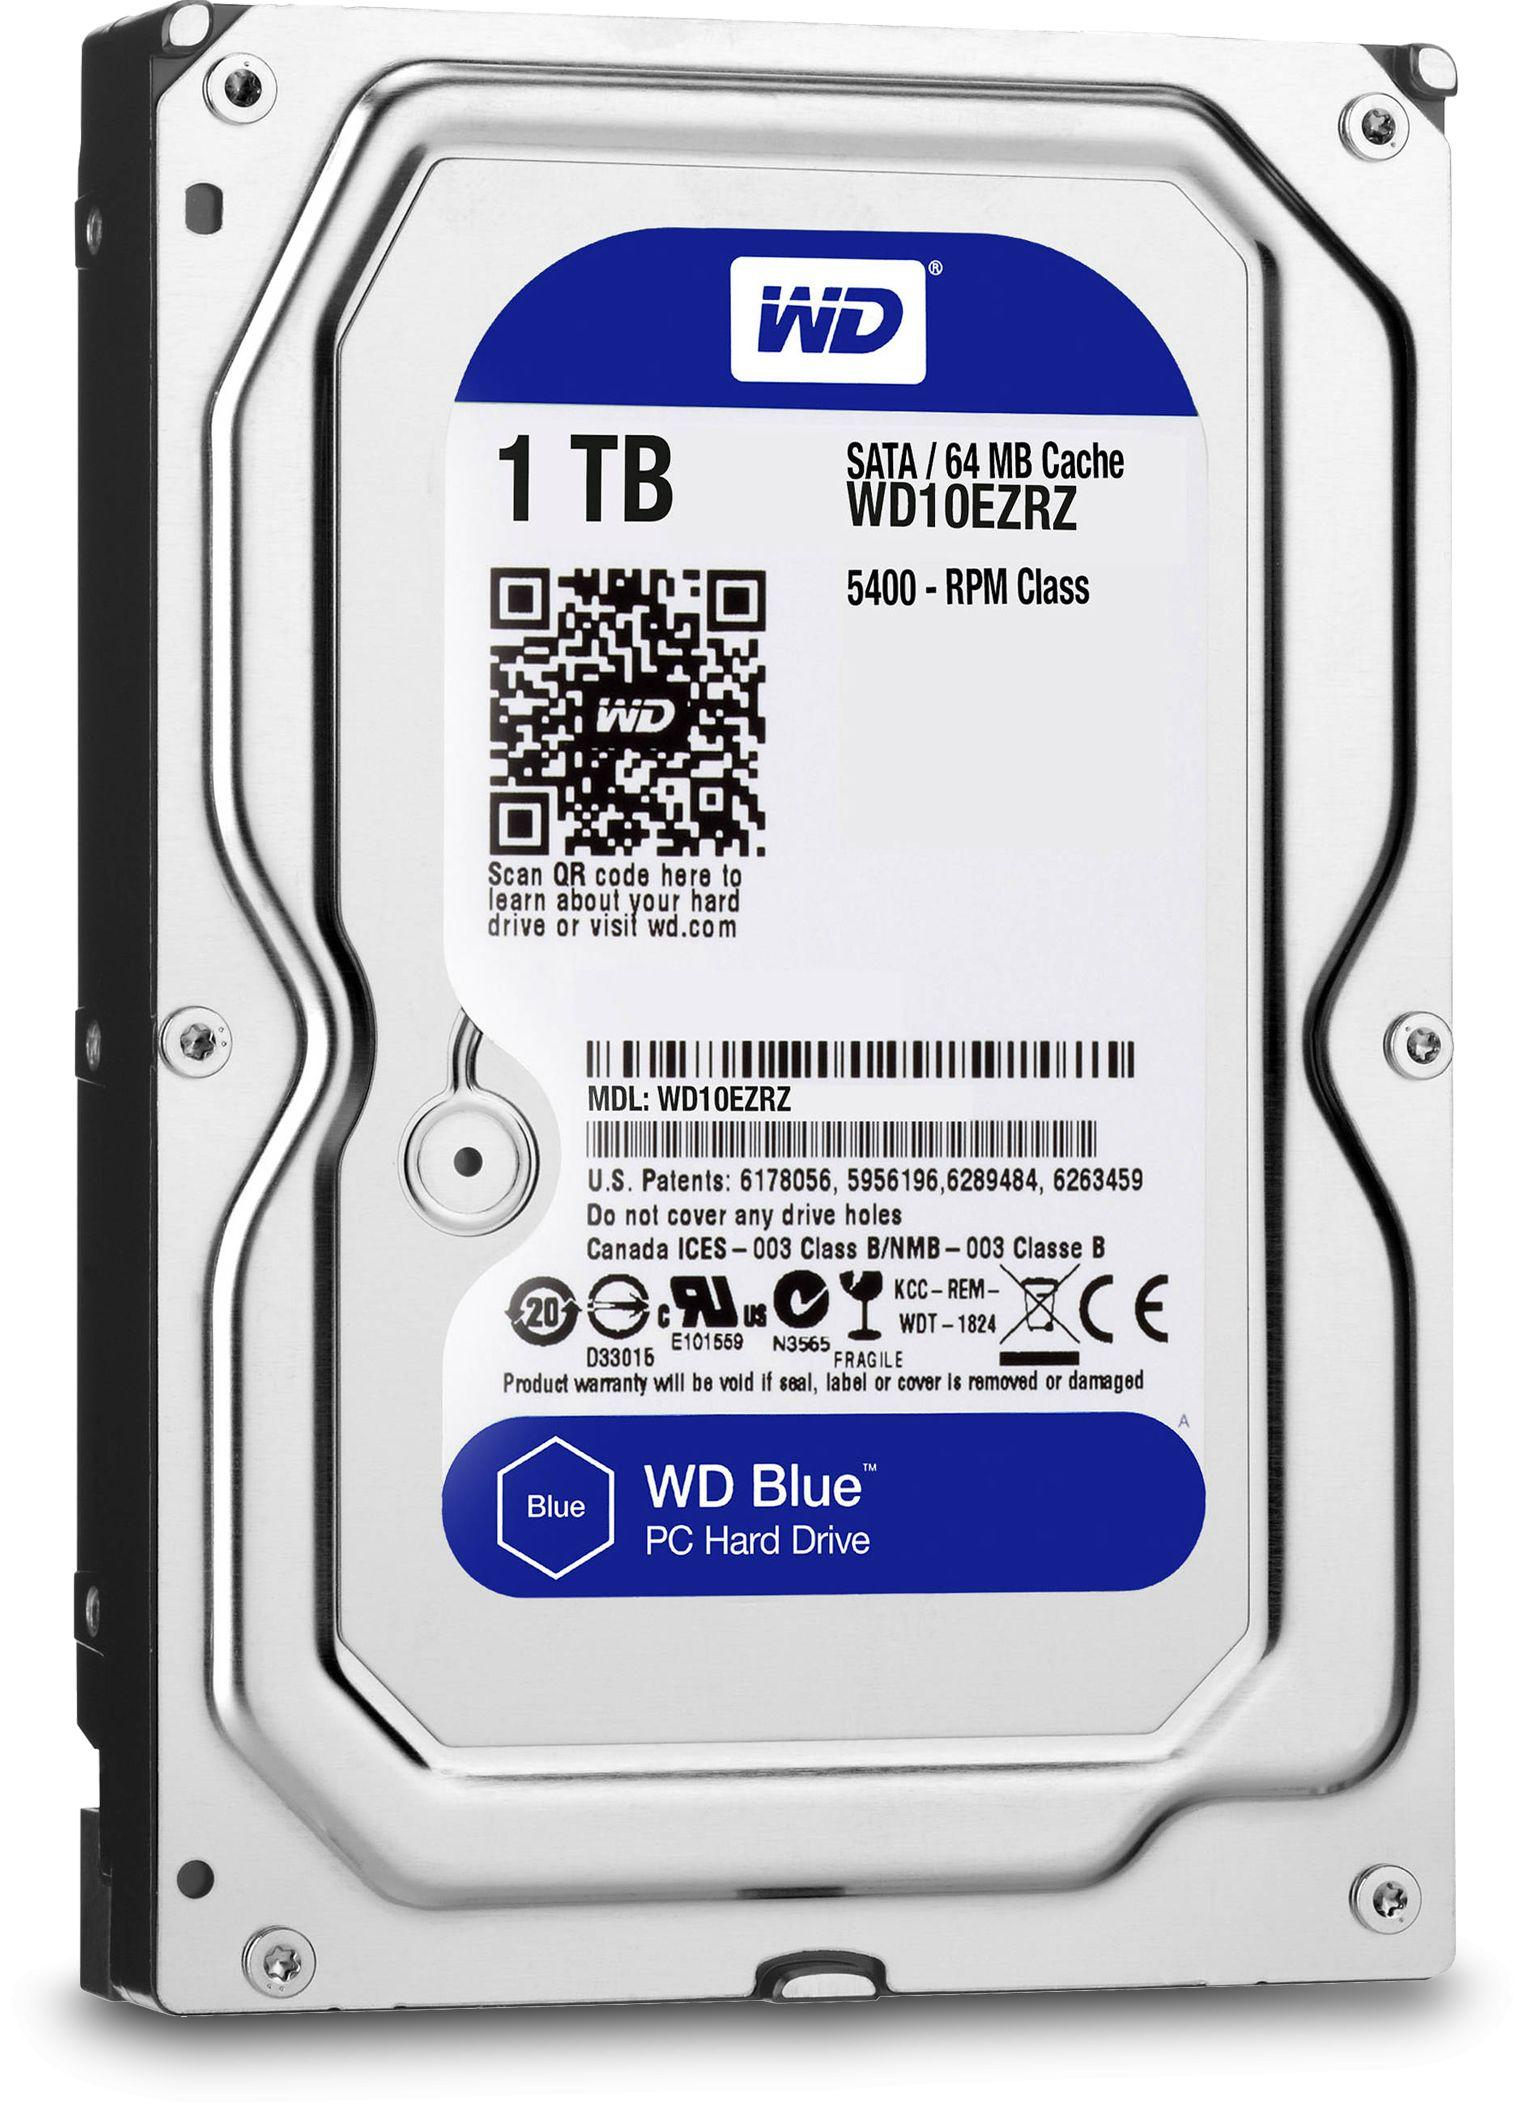internal HDD: (70, 0, 1459, 2026)
